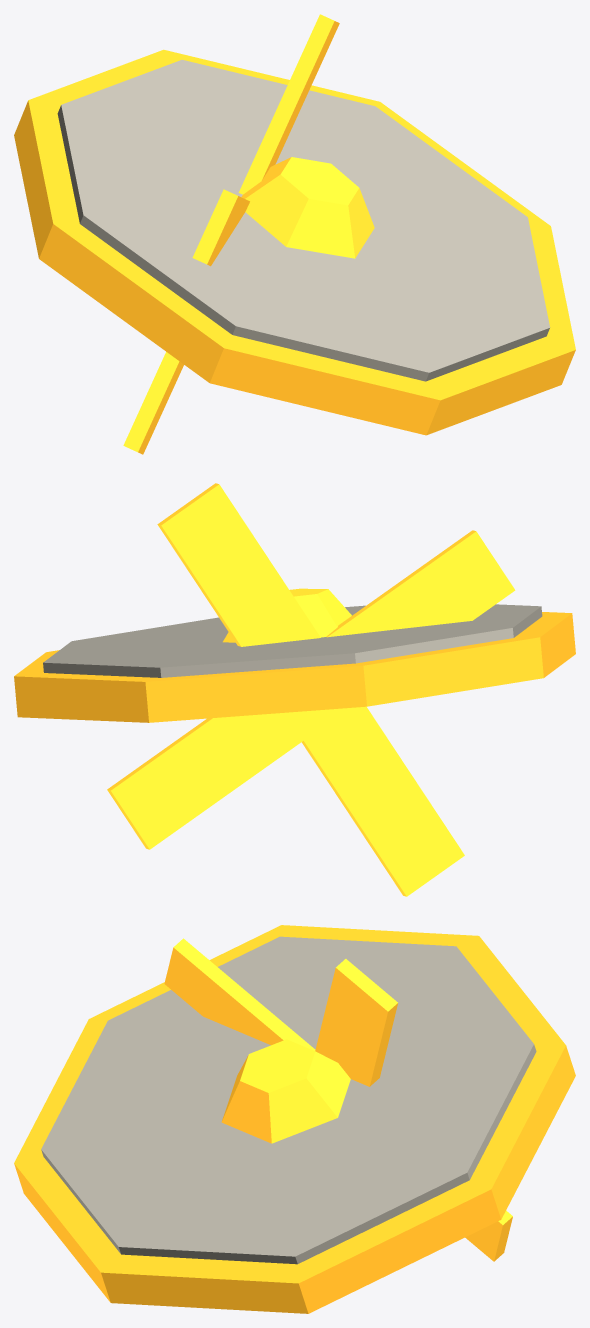
File: ward_of_the_faithful.glb
The picture shows the model from 3 angles, top to bottom: view 1: azimuth 30°, elevation 25°; view 2: azimuth 150°, elevation 25°; view 3: azimuth 270°, elevation 25°; orthographic projection. The views are drawn at different scales.
Parts seen in each view (by area): view 1: ward_of_the_faithful; view 2: ward_of_the_faithful; view 3: ward_of_the_faithful.
Part boxes in pixels (<box>): ward_of_the_faithful: <box>14,14,575,454</box>; ward_of_the_faithful: <box>14,483,575,896</box>; ward_of_the_faithful: <box>14,925,575,1313</box>.
Size of the model in its own units: 0.8636 by 0.6241 by 0.8636.
